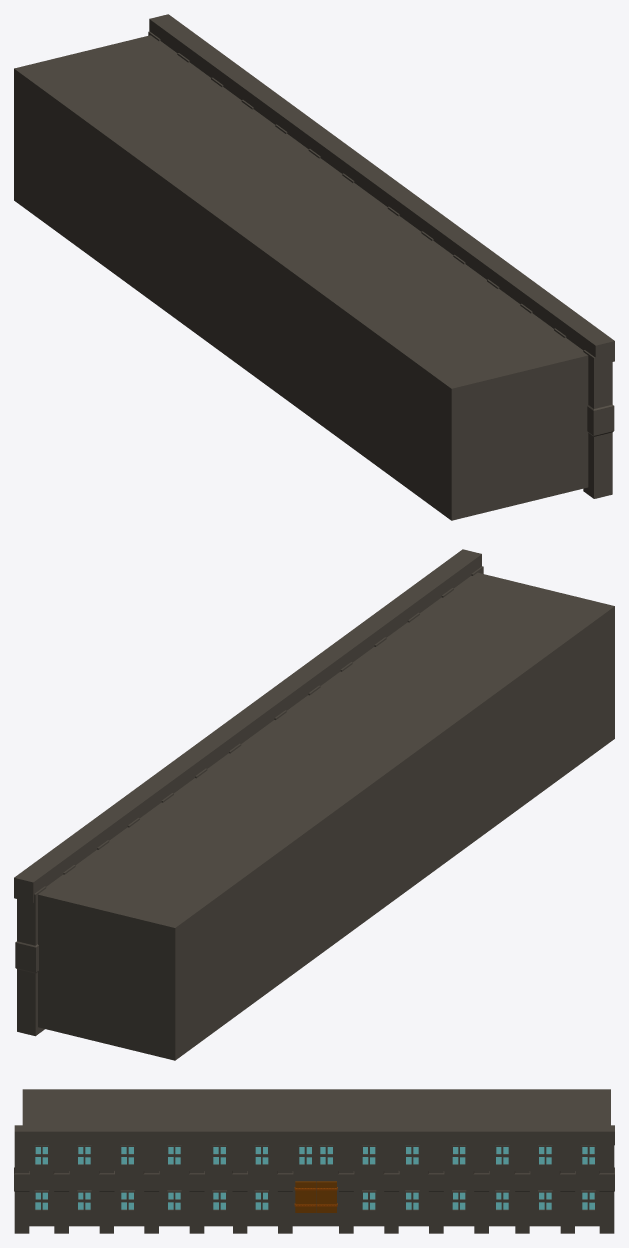
File: Haunted_Mannor.fbx
3 views of the same model, one above another, from view 1: azimuth 30°, elevation 25°; view 2: azimuth 150°, elevation 25°; view 3: azimuth 270°, elevation 25° (orthographic). The views are drawn at different scales.
Parts seen in each view (by area): view 1: Cube; view 2: Cube; view 3: Cube.
Boxes of the visible parts, x1,y1,x2,y2 form: Cube: (14, 14, 614, 520); Cube: (14, 549, 614, 1060); Cube: (14, 1089, 614, 1233).
Bounding box in the file's own units: 1697 × 1577 × 8346.
